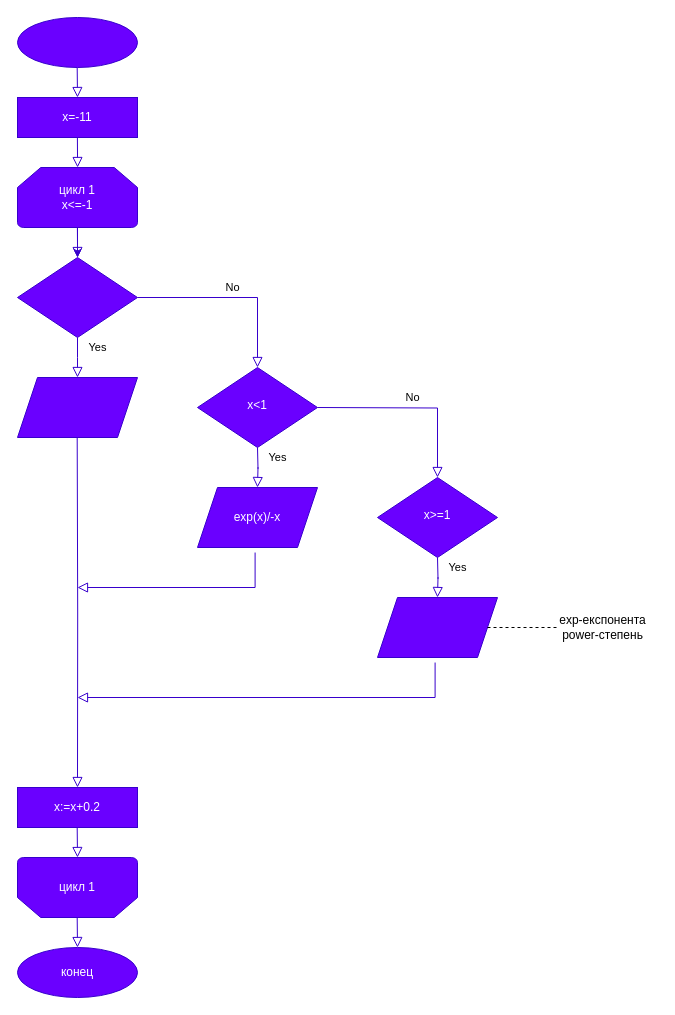
The diagram is 675 pixels wide and 1015 high, and some of its shapes have lost their labels. The centre of each missing label's shape, as x and y in pixels:
cos(2*x)*77: [77,407]
power(0.1*x)*tan(x)-cos(2*x): [437,627]
x<-8: [77,297]
начало: [77,42]
